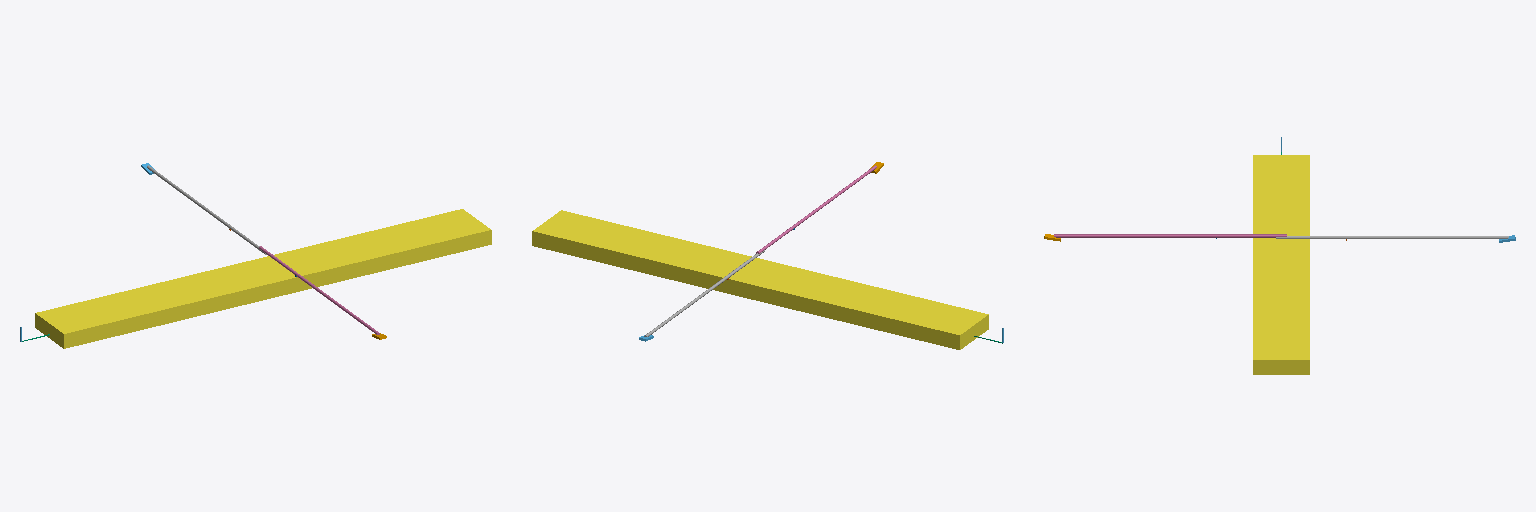
robot.urdf — myboat:
<?xml version="1.0" encoding="utf-8"?>
<!-- =================================================================================== -->
<!-- |    This document was autogenerated by xacro from boot2.xacro                    | -->
<!-- |    EDITING THIS FILE BY HAND IS NOT RECOMMENDED                                 | -->
<!-- =================================================================================== -->
<robot name="myboat" xmlns:xacro="http://www.ros.org/wiki/xacro">
  <!-- Constants for robot dimensions -->
  <gazebo>
    <self_collide>1</self_collide>
  </gazebo>
  <!-- ros_control plugin -->
  <gazebo>
    <plugin filename="libgazebo_ros_control.so" name="gazebo_ros_control">
      <robotNamespace>/boot2</robotNamespace>
      <robotSimType>gazebo_ros_control/DefaultRobotHWSim</robotSimType>
    </plugin>
    <plugin filename="libgazebo_ros_ft_sensor.so" name="sb_rl_sensor">
      <updateRate>50.0</updateRate>
      <topicName>sb_rl_sensor</topicName>
      <jointName>starboard_rowlock</jointName>
    </plugin>
    <plugin filename="libgazebo_ros_ft_sensor.so" name="p_rl_sensor">
      <updateRate>50.0</updateRate>
      <topicName>p_rl_sensor</topicName>
      <jointName>port_rowlock</jointName>
    </plugin>
    <plugin filename="libgazebo_ros_ft_sensor.so" name="sb_oar_sensor">
      <updateRate>50.0</updateRate>
      <topicName>sb_oar_sensor</topicName>
      <jointName>starboard_oar</jointName>
    </plugin>
    <plugin filename="libgazebo_ros_ft_sensor.so" name="p_oar_sensor">
      <updateRate>50.0</updateRate>
      <topicName>p_oar_sensor</topicName>
      <jointName>port_oar</jointName>
      <noise>
        <type>gaussian</type>
        <mean>0.0</mean>
        <stddev>0.003</stddev>
        <!-- change this to simulate noise -->
      </noise>
    </plugin>
    <plugin filename="libgazebo_ros_ft_sensor.so" name="sbb_sensor">
      <updateRate>50.0</updateRate>
      <topicName>sbb_sensor</topicName>
      <jointName>starboard_blade</jointName>
    </plugin>
    <plugin filename="libgazebo_ros_ft_sensor.so" name="pb_sensor">
      <updateRate>50.0</updateRate>
      <topicName>pb_sensor</topicName>
      <jointName>port_blade</jointName>
    </plugin>
  </gazebo>
  <gazebo reference="starboard_rowlock">
    <provideFeedback>true</provideFeedback>
  </gazebo>
  <gazebo reference="port_rowlock">
    <provideFeedback>true</provideFeedback>
  </gazebo>
  <gazebo reference="starboard_oar">
    <provideFeedback>true</provideFeedback>
  </gazebo>
  <gazebo reference="port_oar">
    <provideFeedback>true</provideFeedback>
  </gazebo>
  <gazebo reference="starboard_blade">
    <provideFeedback>true</provideFeedback>
  </gazebo>
  <gazebo reference="port_blade">
    <provideFeedback>true</provideFeedback>
  </gazebo>
  <gazebo reference="skiff">
    <material>Gazebo/White</material>
    <mu1>0.02</mu1>
    <mu2>0.02</mu2>
  </gazebo>
  <gazebo reference="starboard_rowlock_l">
    <mu1>0.01</mu1>
    <mu2>0.01</mu2>
    <material>Gazebo/Green</material>
  </gazebo>
  <gazebo reference="port_rowlock_l">
    <mu1>0.01</mu1>
    <mu2>0.01</mu2>
    <material>Gazebo/Red</material>
    <provideFeedback>true</provideFeedback>
  </gazebo>
  <gazebo reference="starboard_oar_l">
    <mu1>0.01</mu1>
    <mu2>0.01</mu2>
    <material>Gazebo/Green</material>
    <provideFeedback>true</provideFeedback>
  </gazebo>
  <gazebo reference="port_oar_l">
    <mu1>0.01</mu1>
    <mu2>0.01</mu2>
    <material>Gazebo/Green</material>
    <provideFeedback>true</provideFeedback>
  </gazebo>
  <gazebo reference="starboard_blade_l">
    <mu1>10.0</mu1>
    <mu2>10.0</mu2>
    <material>Gazebo/Green</material>
    <provideFeedback>true</provideFeedback>
  </gazebo>
  <gazebo reference="port_blade_l">
    <mu1>10.0</mu1>
    <mu2>10.0</mu2>
    <material>Gazebo/Red</material>
    <provideFeedback>true</provideFeedback>
  </gazebo>
  <material name="black">
    <color rgba="0.0 0.0 0.0 1.0"/>
  </material>
  <material name="blue">
    <color rgba="0.0 0.0 0.8 1.0"/>
  </material>
  <material name="green">
    <color rgba="0.0 0.8 0.0 1.0"/>
  </material>
  <material name="grey">
    <color rgba="0.2 0.2 0.2 1.0"/>
  </material>
  <material name="orange">
    <color rgba="1.0 0.423529411765 0.0392156862745 1.0"/>
  </material>
  <material name="brown">
    <color rgba="0.870588235294 0.811764705882 0.764705882353 1.0"/>
  </material>
  <material name="red">
    <color rgba="0.8 0.0 0.0 1.0"/>
  </material>
  <material name="white">
    <color rgba="1.0 1.0 1.0 1.0"/>
  </material>
  <!--
    Describes parameters of the boot model
-->
  <!--
 lengths of links, musle power?
-->
  <joint name="prism" type="prismatic">
    <parent link="world"/>
    <child link="l1"/>
    <origin rpy="0 0 0" xyz="0 0 0.25"/>
    <axis xyz="1 0 0"/>
    <limit effort="1000.0" lower="-1000" upper="1000" velocity="0.5"/>
  </joint>
  <joint name="rev1" type="revolute">
    <parent link="l1"/>
    <child link="l2"/>
    <origin rpy="0 1.57079632679 0" xyz="0.0 0 -0.2"/>
    <axis xyz="0 1 0"/>
    <limit effort="1000.0" lower="-1" upper="1" velocity="1.0"/>
  </joint>
  <joint name="rev2" type="revolute">
    <parent link="l2"/>
    <child link="skiff"/>
    <origin rpy="3.14159265359 1.57079632679 0" xyz="0.0 0.0 0.4"/>
    <axis xyz="0 1 0"/>
    <limit effort="1000.0" lower="-1" upper="1" velocity="1.0"/>
  </joint>
  <joint name="starboard_rowlock" type="revolute">
    <parent link="skiff"/>
    <child link="starboard_rowlock_l"/>
    <origin rpy="0.0  0.0 0.0" xyz="-3 0.8 0.42"/>
    <axis xyz="0 0 1"/>
    <limit effort="1000.0" lower="-1.4" upper="1.4" velocity="1.0"/>
  </joint>
  <joint name="port_rowlock" type="revolute">
    <parent link="skiff"/>
    <child link="port_rowlock_l"/>
    <origin rpy="0.0  0.0 0.0" xyz="-3 -0.8 0.4"/>
    <axis xyz="0 0 1"/>
    <limit effort="1000.0" lower="-1.4" upper="1.4" velocity="1.0"/>
  </joint>
  <joint name="starboard_oar" type="revolute">
    <parent link="starboard_rowlock_l"/>
    <child link="starboard_oar_l"/>
    <origin rpy="0.0  1.57079632679 -1.57079632679" xyz="0.0 0.0   0.02"/>
    <axis xyz="0 1 0"/>
    <limit effort="1000.0" lower="-0.4" upper="0.0" velocity="1.0"/>
  </joint>
  <joint name="port_oar" type="revolute">
    <parent link="port_rowlock_l"/>
    <child link="port_oar_l"/>
    <origin rpy="0.0  1.57079632679 -1.57079632679" xyz="0.0 0.0   0.02"/>
    <axis xyz="0 1 0"/>
    <limit effort="1000.0" lower="0.0" upper="0.4" velocity="1.0"/>
  </joint>
  <joint name="starboard_blade" type="revolute">
    <parent link="starboard_oar_l"/>
    <child link="starboard_blade_l"/>
    <origin rpy="0 0  0.0" xyz="0.0 0.0   -2.0"/>
    <axis xyz="0 1 0"/>
    <limit effort="1000.0" lower="-0.4" upper="0.4" velocity="1.0"/>
  </joint>
  <joint name="port_blade" type="revolute">
    <parent link="port_oar_l"/>
    <child link="port_blade_l"/>
    <origin rpy="0.0  0 0.0" xyz="0.0 0.0   2.0"/>
    <axis xyz="0 1 0"/>
    <limit effort="1000.0" lower="-0.4" upper="0.4" velocity="1.0"/>
  </joint>
  <link name="world"/>
  <link name="l1">
    <inertial>
      <mass value="0.01"/>
      <origin rpy="0 0 0" xyz="0 0.0 -0.1"/>
      <inertia ixx="0.006" ixy="0" ixz="0" iyy="0.1" iyz="0" izz="0.1"/>
    </inertial>
    <visual>
      <origin rpy="0 0 0" xyz="0.0 0.0 -0.1"/>
      <geometry>
        <box size="0.01 0.01 0.20"/>
      </geometry>
    </visual>
  </link>
  <link name="l2">
    <inertial>
      <mass value="0.01"/>
      <origin rpy="0 0 0" xyz="0 0.0 0.2"/>
      <inertia ixx="0.006" ixy="0" ixz="0" iyy="0.1" iyz="0" izz="0.1"/>
    </inertial>
    <visual>
      <origin rpy="0 0 0" xyz="0.0 0.0 0.2"/>
      <geometry>
        <box size="0.01 0.01 0.40"/>
      </geometry>
    </visual>
  </link>
  <link name="skiff">
    <inertial>
      <mass value="85"/>
      <!-- boat plus roeier -->
      <origin rpy="0 0 0" xyz="-3 0.0 0.05"/>
      <inertia ixx="3.2" ixy="0" ixz="0" iyy="54.2" iyz="0" izz="57"/>
      <!--      <inertia ixx="0.6" ixy="0" ixz="0" iyy="11" iyz="0" izz="11.8"/>  -->
    </inertial>
    <collision>
      <origin rpy="0 0 0" xyz="-3 0.0   0.05"/>
      <geometry>
        <box size="6.0 0.7 0.2"/>
      </geometry>
    </collision>
    <visual>
      <!-- should be a nice skull shape including riggers-->
      <origin rpy="0 0 0" xyz="-3 0.0   0.05"/>
      <geometry>
        <box size="6.0 0.7 0.2"/>
      </geometry>
    </visual>
  </link>
  <link name="starboard_rowlock_l">
    <inertial>
      <mass value="0.1"/>
      <origin rpy="0 0 0" xyz="0.0 0.0 0.0"/>
      <inertia ixx="0.000017" ixy="0" ixz="0" iyy="0.000017" iyz="0" izz="0.000007"/>
    </inertial>
    <collision>
      <origin rpy="0 0 0" xyz="0.0 0.0   0.0"/>
      <geometry>
        <box size="0.02 0.02 0.04"/>
      </geometry>
    </collision>
    <visual>
      <origin rpy="0 0 0" xyz="0.0 0.0   0.0"/>
      <geometry>
        <box size="0.02 0.02 0.04"/>
      </geometry>
    </visual>
  </link>
  <link name="port_rowlock_l">
    <inertial>
      <mass value="0.1"/>
      <origin rpy="0 0 0" xyz="0.0 0.0 0.0"/>
      <inertia ixx="0.000017" ixy="0" ixz="0" iyy="0.000017" iyz="0" izz="0.000007"/>
    </inertial>
    <collision>
      <origin rpy="0 0 0" xyz="0.0 0.0   0.0"/>
      <geometry>
        <box size="0.02 0.02 0.04"/>
      </geometry>
    </collision>
    <visual>
      <origin rpy="0 0 0" xyz="0.0 0.0   0.0"/>
      <geometry>
        <box size="0.02 0.02 0.04"/>
      </geometry>
    </visual>
  </link>
  <link name="starboard_oar_l">
    <inertial>
      <mass value="1.0"/>
      <origin rpy="0 0 0" xyz="0 0 -0.565"/>
      <inertia ixx="0.6" ixy="0" ixz="0" iyy="0.6" iyz="0" izz="0.001"/>
    </inertial>
    <collision>
      <origin rpy="0 0 0" xyz="0   0   -0.565"/>
      <geometry>
        <cylinder length="2.27" radius="0.02"/>
      </geometry>
    </collision>
    <visual>
      <origin rpy="0 0 0" xyz="0   0.0   -0.565"/>
      <geometry>
        <cylinder length="2.87" radius="0.02"/>
      </geometry>
    </visual>
  </link>
  <link name="port_oar_l">
    <inertial>
      <mass value="1.0"/>
      <origin rpy="0 0 0" xyz="0 0 0.565"/>
      <inertia ixx="0.6" ixy="0" ixz="0" iyy="0.6" iyz="0" izz="0.001"/>
    </inertial>
    <collision>
      <origin rpy="0 0 0" xyz="0   0   0.565"/>
      <geometry>
        <cylinder length="2.27" radius="0.02"/>
        <!-- -0.6 to prevent collissions  -->
      </geometry>
    </collision>
    <visual>
      <origin rpy="0 0 0" xyz="0   0   0.565"/>
      <geometry>
        <cylinder length="2.87" radius="0.02"/>
      </geometry>
    </visual>
  </link>
  <link name="starboard_blade_l">
    <inertial>
      <mass value="1.0"/>
      <origin rpy="0 -1.4 0" xyz="0.02 0 -0.02"/>
      <inertia ixx="0.0009" ixy="0" ixz="0" iyy="0.0034" iyz="0" izz="0.004"/>
    </inertial>
    <collision>
      <origin rpy="0 -1.4 0" xyz="0.02    0   -0.02"/>
      <geometry>
        <box size="0.2 0.1 0.03"/>
      </geometry>
    </collision>
    <visual>
      <origin rpy="0 -1.4 0" xyz="0.02    0   -0.02"/>
      <geometry>
        <box size="0.2 0.1 0.03"/>
      </geometry>
    </visual>
  </link>
  <link name="port_blade_l">
    <inertial>
      <mass value="1.0"/>
      <origin rpy="0 1.4 0" xyz="0.02 0 -0.02"/>
      <inertia ixx="0.0009" ixy="0" ixz="0" iyy="0.0034" iyz="0" izz="0.004"/>
    </inertial>
    <collision>
      <origin rpy="0 1.4 0" xyz="0.02    0   -0.02"/>
      <geometry>
        <box size="0.2 0.1 0.03"/>
      </geometry>
    </collision>
    <visual>
      <origin rpy="0 1.4 0" xyz="0.02    0.0  -0.02"/>
      <geometry>
        <box size="0.2 0.1 0.03"/>
      </geometry>
    </visual>
  </link>
  <transmission name="tran1">
    <type>transmission_interface/SimpleTransmission</type>
    <joint name="starboard_rowlock">
      <hardwareInterface>hardware_interface/EffortJointInterface</hardwareInterface>
    </joint>
    <actuator name="motor1">
      <mechanicalReduction>1</mechanicalReduction>
    </actuator>
  </transmission>
  <transmission name="tran2">
    <type>transmission_interface/SimpleTransmission</type>
    <joint name="port_rowlock">
      <hardwareInterface>hardware_interface/EffortJointInterface</hardwareInterface>
    </joint>
    <actuator name="motor2">
      <mechanicalReduction>1</mechanicalReduction>
    </actuator>
  </transmission>
  <transmission name="tran3">
    <type>transmission_interface/SimpleTransmission</type>
    <joint name="starboard_oar">
      <hardwareInterface>hardware_interface/EffortJointInterface</hardwareInterface>
    </joint>
    <actuator name="motor3">
      <mechanicalReduction>1</mechanicalReduction>
    </actuator>
  </transmission>
  <transmission name="tran4">
    <type>transmission_interface/SimpleTransmission</type>
    <joint name="port_oar">
      <hardwareInterface>hardware_interface/EffortJointInterface</hardwareInterface>
    </joint>
    <actuator name="motor4">
      <mechanicalReduction>1</mechanicalReduction>
    </actuator>
  </transmission>
  <transmission name="tran5">
    <type>transmission_interface/SimpleTransmission</type>
    <joint name="starboard_blade">
      <hardwareInterface>hardware_interface/EffortJointInterface</hardwareInterface>
    </joint>
    <actuator name="motor5">
      <mechanicalReduction>1</mechanicalReduction>
    </actuator>
  </transmission>
  <transmission name="tran6">
    <type>transmission_interface/SimpleTransmission</type>
    <joint name="port_blade">
      <hardwareInterface>hardware_interface/EffortJointInterface</hardwareInterface>
    </joint>
    <actuator name="motor6">
      <mechanicalReduction>1</mechanicalReduction>
    </actuator>
  </transmission>
</robot>

--- Facts derived from the render (not from the file) ---
The picture shows the robot from 3 angles, left to right: view 1: azimuth 30°, elevation 25°; view 2: azimuth 150°, elevation 25°; view 3: azimuth 270°, elevation 25°; orthographic projection.
Model myboat with 10 links and 9 joints (8 revolute, 1 prismatic), rooted at world, posed every joint at zero.
Visible links, largest first — view 1: skiff; view 2: skiff; view 3: skiff, starboard_oar_l, port_oar_l.
Boxes of the visible links, x1,y1,x2,y2 form: skiff: (35, 209, 491, 348); skiff: (532, 210, 988, 349); skiff: (1253, 155, 1309, 374); starboard_oar_l: (1054, 234, 1286, 237); port_oar_l: (1276, 236, 1508, 238).
Size in the robot's own frame: 6.41 by 5.8 by 0.51 metres.
Geometry: primitives only (box / cylinder / sphere), no mesh files.